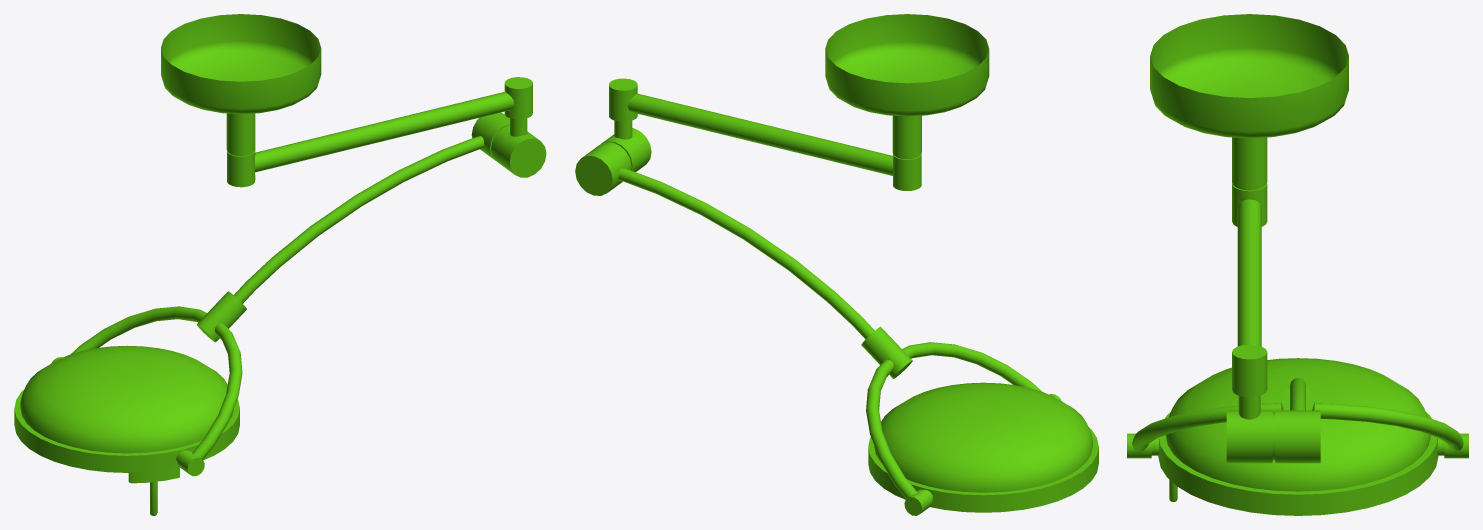
File: Lamp_2.fbx
3 views of the same model, side by side, from view 1: azimuth 30°, elevation 25°; view 2: azimuth 150°, elevation 25°; view 3: azimuth 270°, elevation 25° (orthographic). The views are drawn at different scales.
Visible parts, largest first — view 1: Lamp_1_1_1_1, Lamp_1, Lamp_1_1_1, Lamp_1_1; view 2: Lamp_1_1_1_1, Lamp_1, Lamp_1_1_1, Lamp_1_1; view 3: Lamp_1, Lamp_1_1_1_1, Lamp_1_1_1, Lamp_1_1.
Part boxes in pixels (bbox=[...]): Lamp_1_1_1_1: bbox=[14, 345, 239, 515]; Lamp_1: bbox=[161, 14, 532, 187]; Lamp_1_1_1: bbox=[51, 112, 509, 476]; Lamp_1_1: bbox=[491, 118, 546, 177]; Lamp_1_1_1_1: bbox=[868, 382, 1098, 512]; Lamp_1: bbox=[609, 14, 989, 190]; Lamp_1_1_1: bbox=[575, 142, 1061, 515]; Lamp_1_1: bbox=[600, 120, 651, 171]; Lamp_1: bbox=[1150, 14, 1348, 397]; Lamp_1_1_1_1: bbox=[1158, 358, 1438, 515]; Lamp_1_1_1: bbox=[1127, 377, 1468, 463]; Lamp_1_1: bbox=[1226, 395, 1272, 463].
Size of the model in its own units: 176 by 143 by 85.85.
